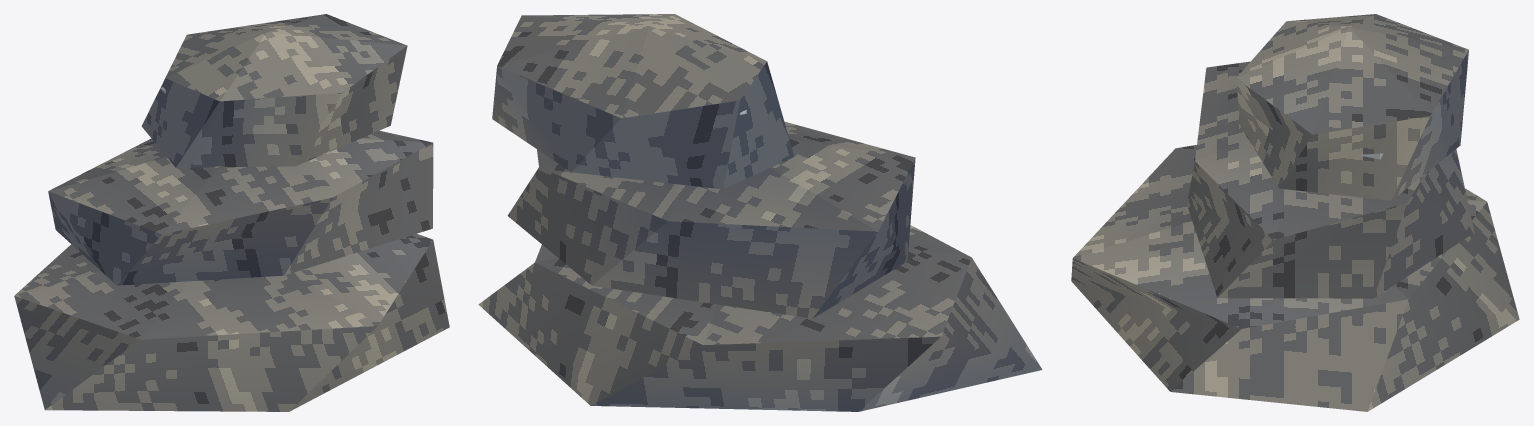
File: mnat.rock__outcrop.glb
3 renders of one model, left to right at view 1: azimuth 30°, elevation 25°; view 2: azimuth 150°, elevation 25°; view 3: azimuth 270°, elevation 25°, orthographic. The views are drawn at different scales.
Parts seen in each view (by area): view 1: kit_rock; view 2: kit_rock; view 3: kit_rock.
Boxes of the visible parts, x1,y1,x2,y2 form: kit_rock: [14, 14, 449, 411]; kit_rock: [478, 14, 1042, 411]; kit_rock: [1071, 14, 1519, 411].
Size of the model in its own units: 3.09 by 2.1 by 2.48.
2 materials, 2 textured.
